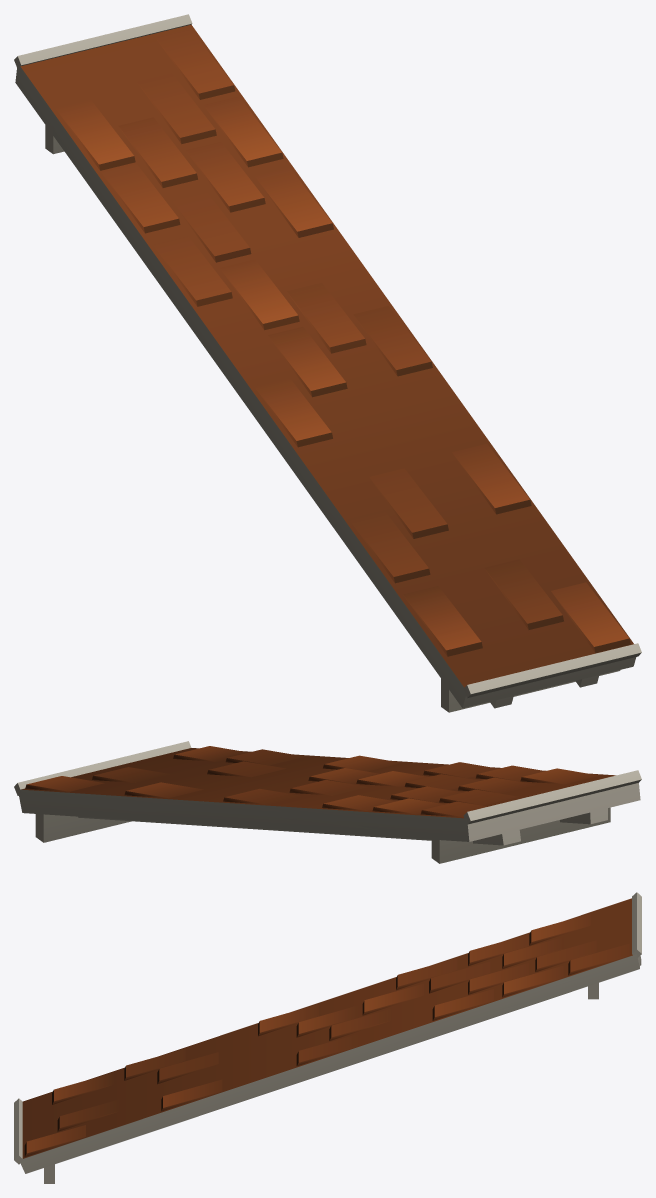
The model's file is TSP_House_Roof_01C_2.fbx.
3 views of the same model, one above another, from view 1: azimuth 30°, elevation 25°; view 2: azimuth 210°, elevation 25°; view 3: azimuth 270°, elevation 25° (orthographic). The views are drawn at different scales.
Visible parts, largest first — view 1: TSP_House_Roof_01C_2; view 2: TSP_House_Roof_01C_2; view 3: TSP_House_Roof_01C_2.
Part boxes in pixels (left/top/right/bottom): TSP_House_Roof_01C_2: left=14, top=14, right=641, bottom=712; TSP_House_Roof_01C_2: left=14, top=741, right=641, bottom=863; TSP_House_Roof_01C_2: left=14, top=892, right=641, bottom=1183.
Size of the model in its own units: 2 by 3.81 by 9.24.
